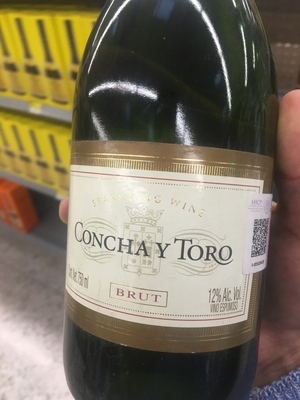brut: (61, 14, 282, 390)
